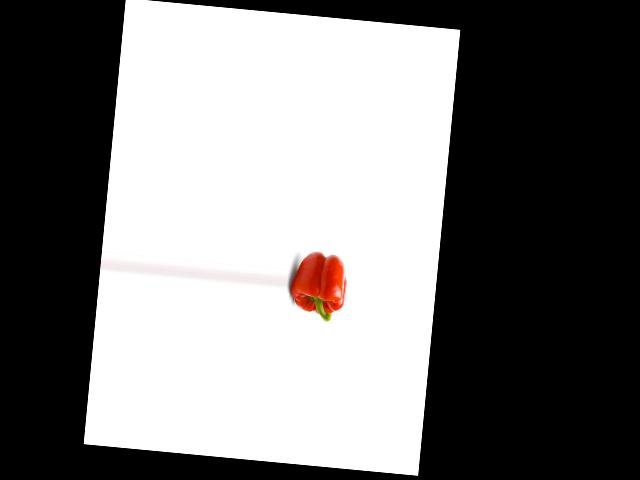bell_pepper: (288, 244, 349, 326)
